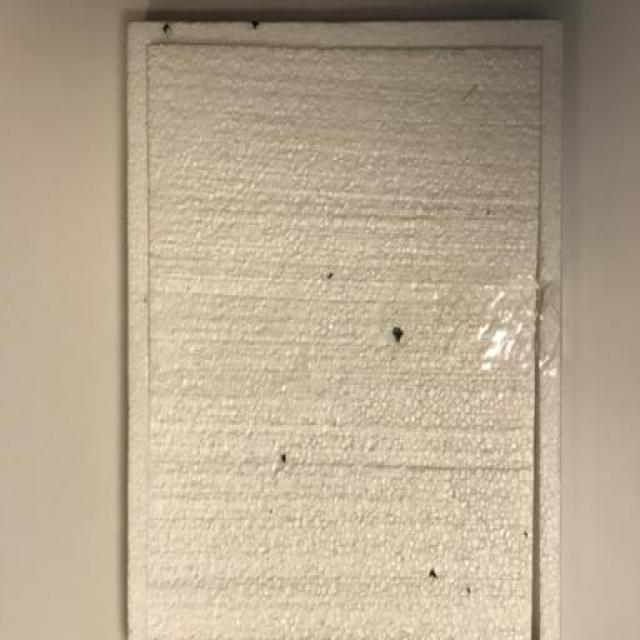others: (104, 11, 579, 640)
